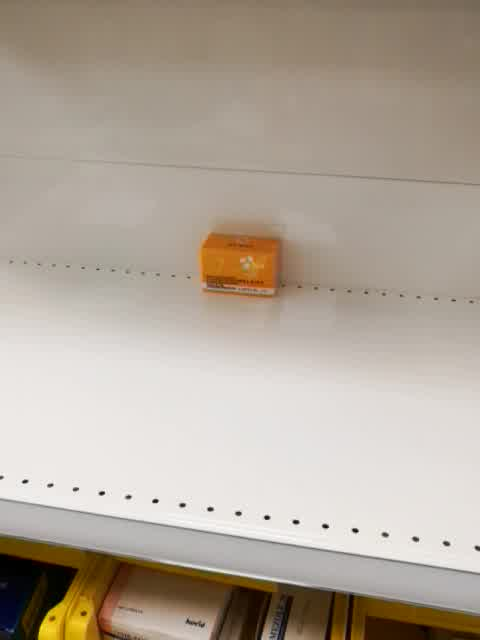jasminetea: (199, 231, 283, 298)
